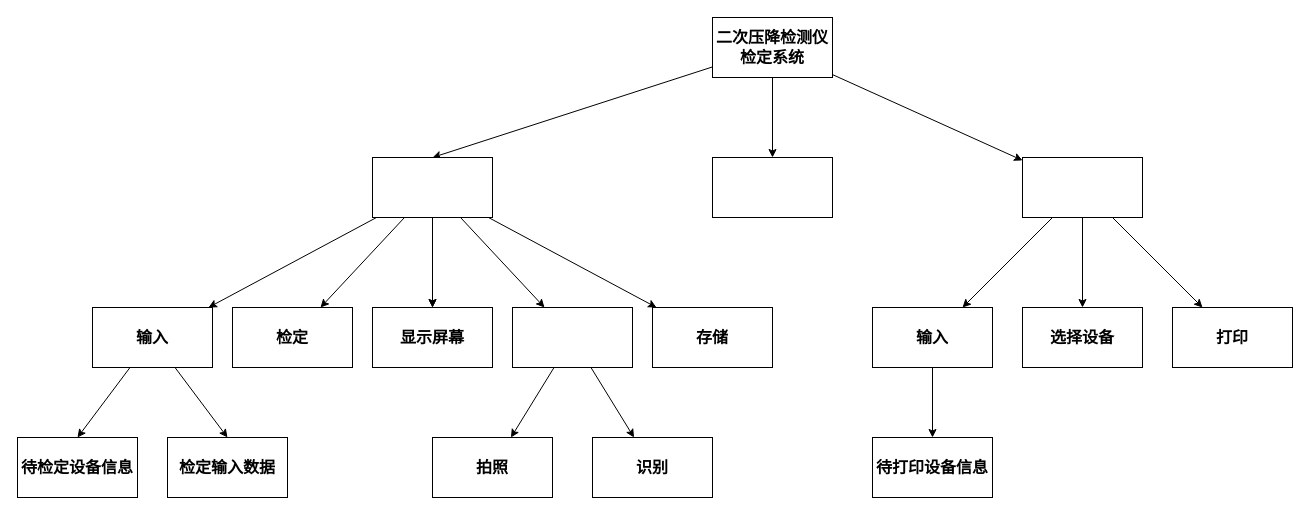
Image size: 1310x515. Some labels were removed from this diagram. The shapes that lost their labels are listed below. From the top down, each one's box as (x1, y1, x2, y2) in pixels, then its label:
(372, 156, 492, 218): 检定过程
(712, 156, 832, 218): 数据库
(1022, 156, 1142, 218): 打印报告
(512, 306, 632, 368): 采集设备
